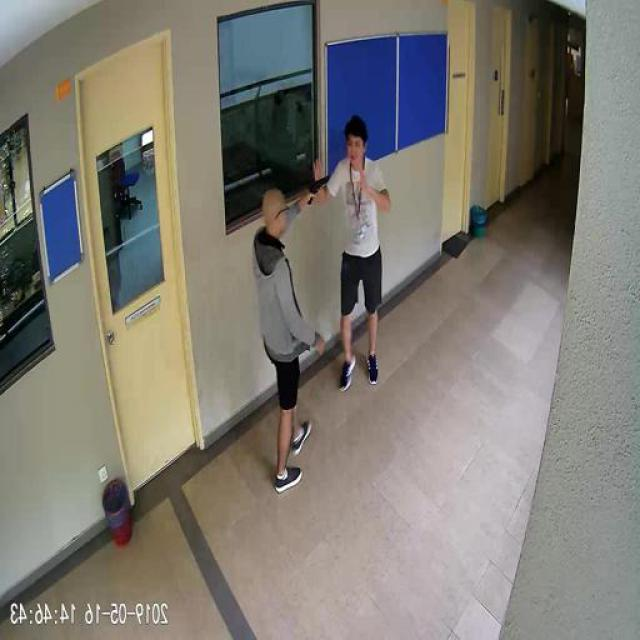Gun: (310, 174, 330, 202)
